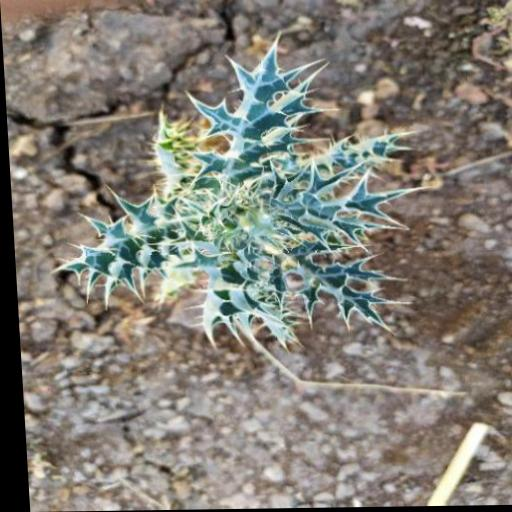weed: (44, 30, 420, 346)
